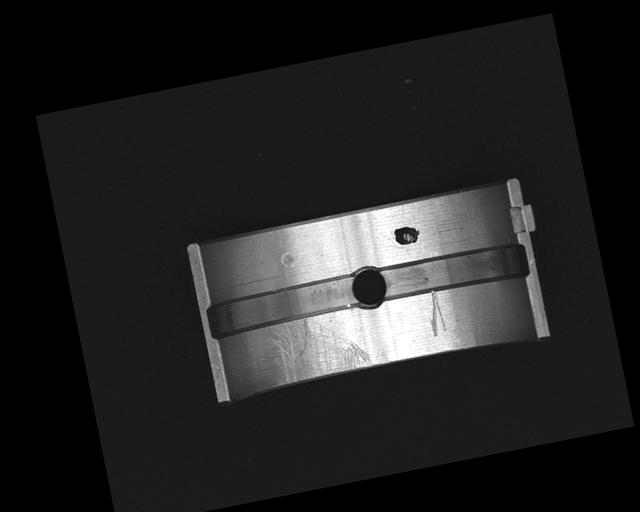blot: (392, 222, 423, 247)
bruise: (279, 250, 295, 269)
gap: (203, 273, 361, 341), (380, 240, 530, 302)
hole: (348, 262, 390, 312)
nick: (422, 287, 449, 337)
scratch: (262, 306, 372, 388)
